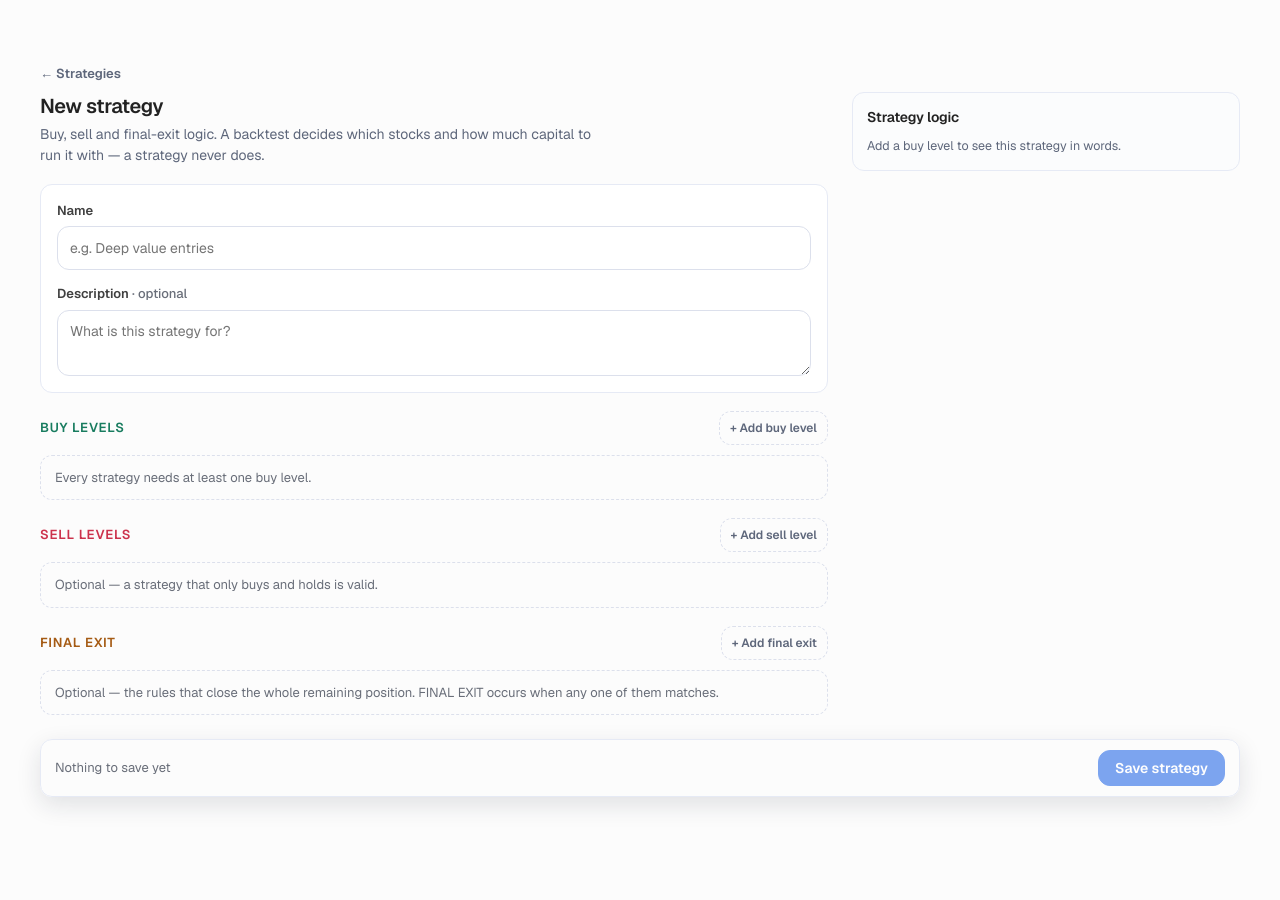
Test: an ETF condition beside stock conditions › keeps the three controls: no fourth, and the source lives in the Metric popover alone
The width and height of the screenshot is (1280, 900).
Step 1. Click the button with test id "add-level-BUY" → click(773, 428), box [719,410,828,444]
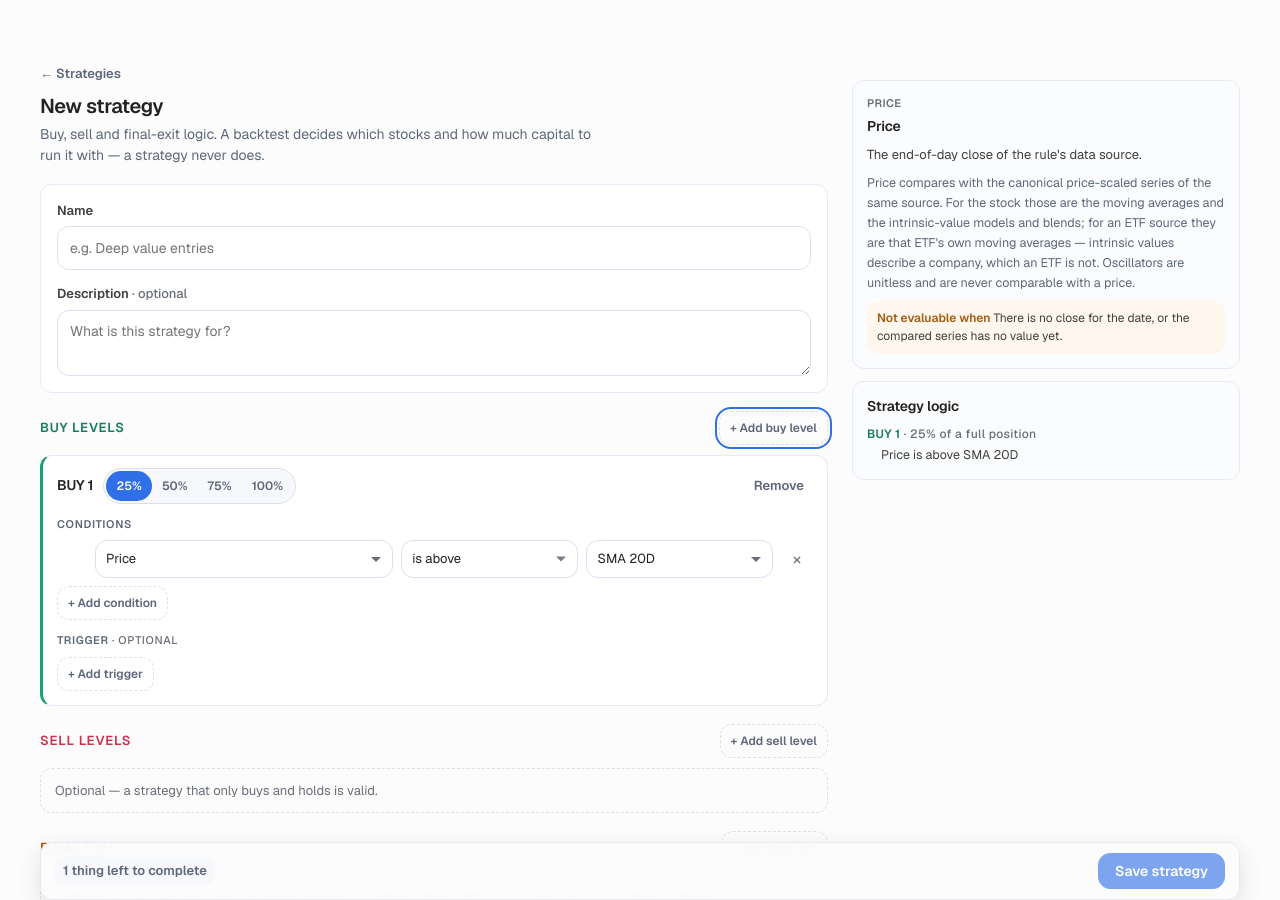
Step 2. Click the button with test id "metric-picker" → click(121, 559), box [95,540,393,578]
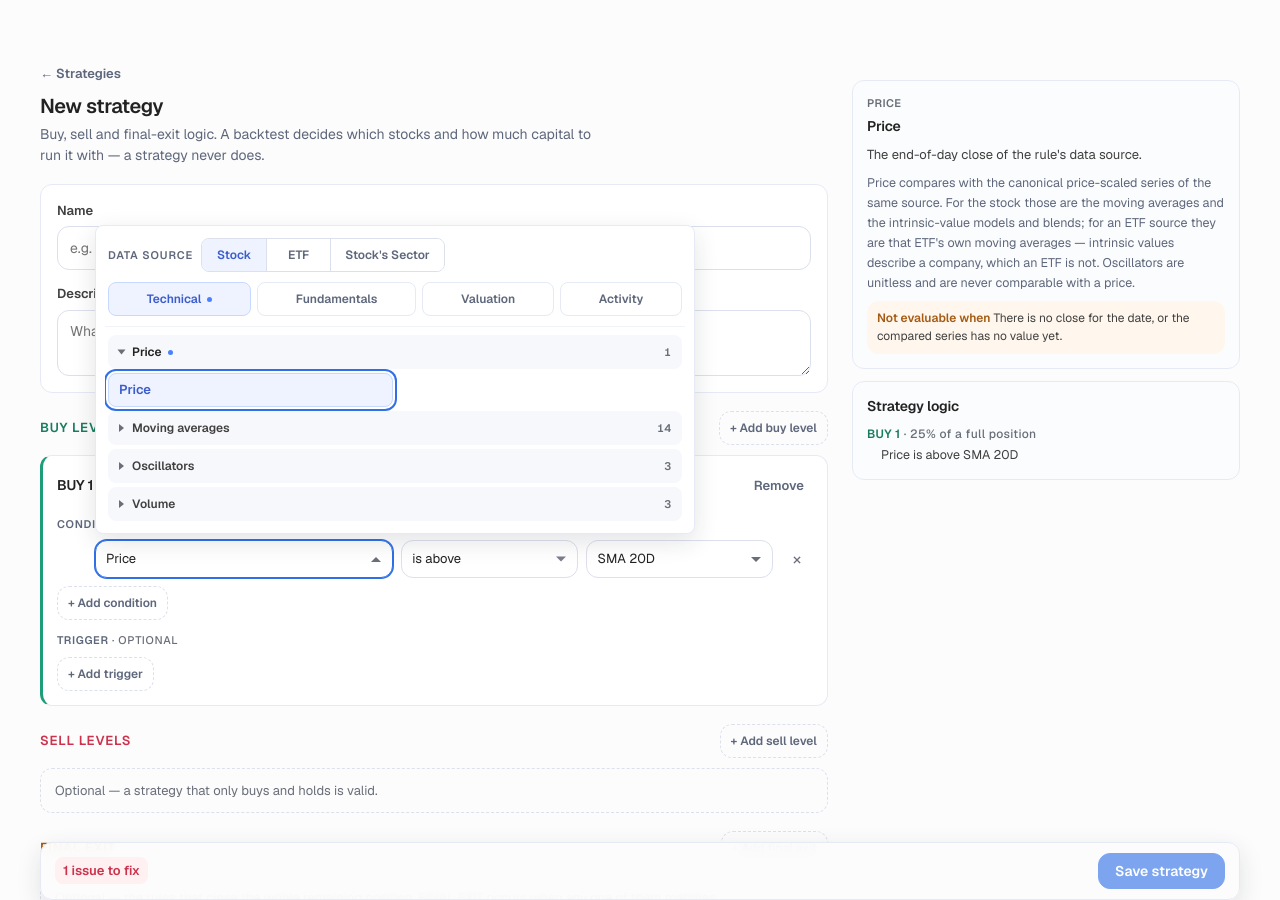
Step 3. Click the radio button labelled "ETF" → click(298, 255), box [266,239,330,271]
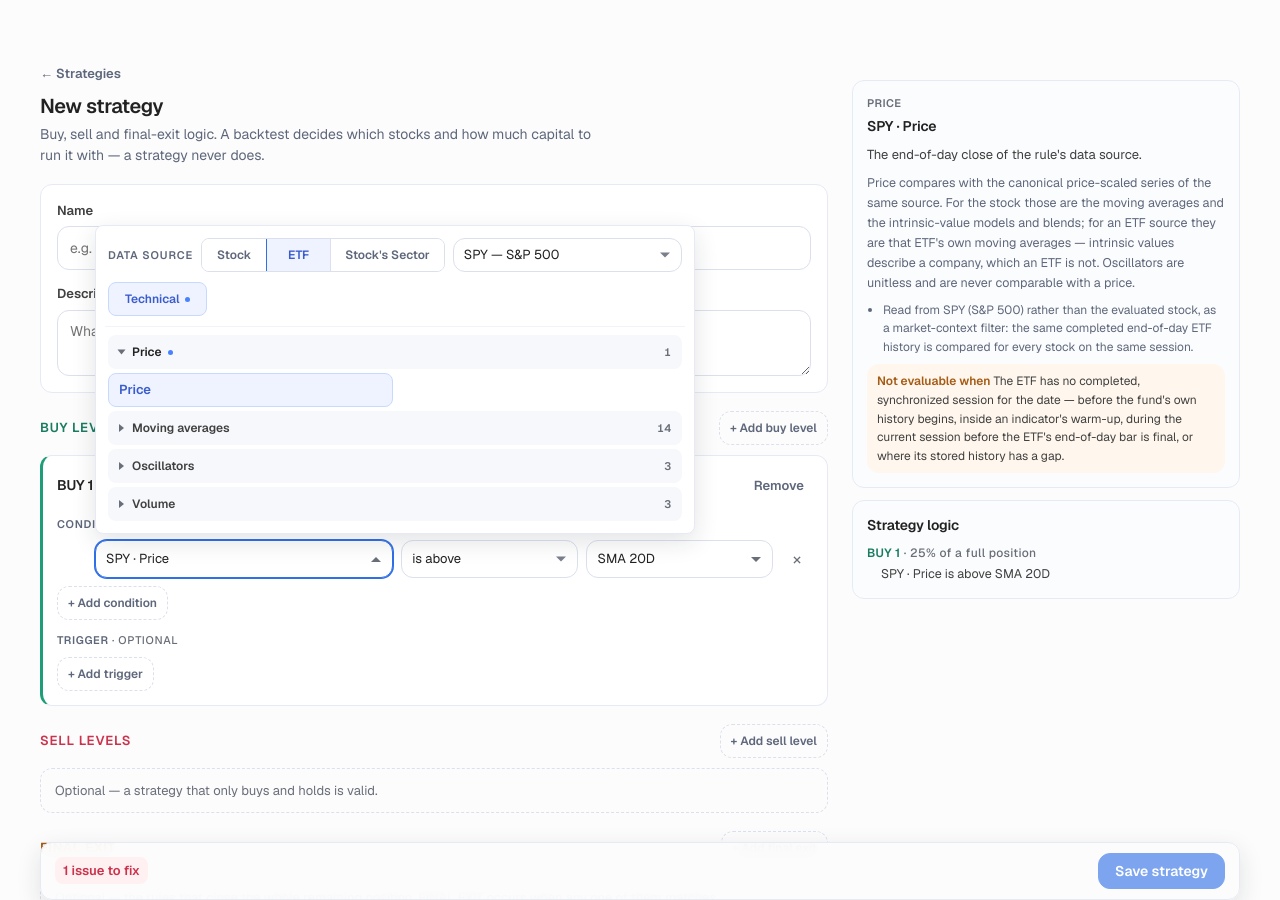
Step 4. Select "XLK — Technology" in the dropdown named "ETF" → (567, 255), box [453,238,682,272]
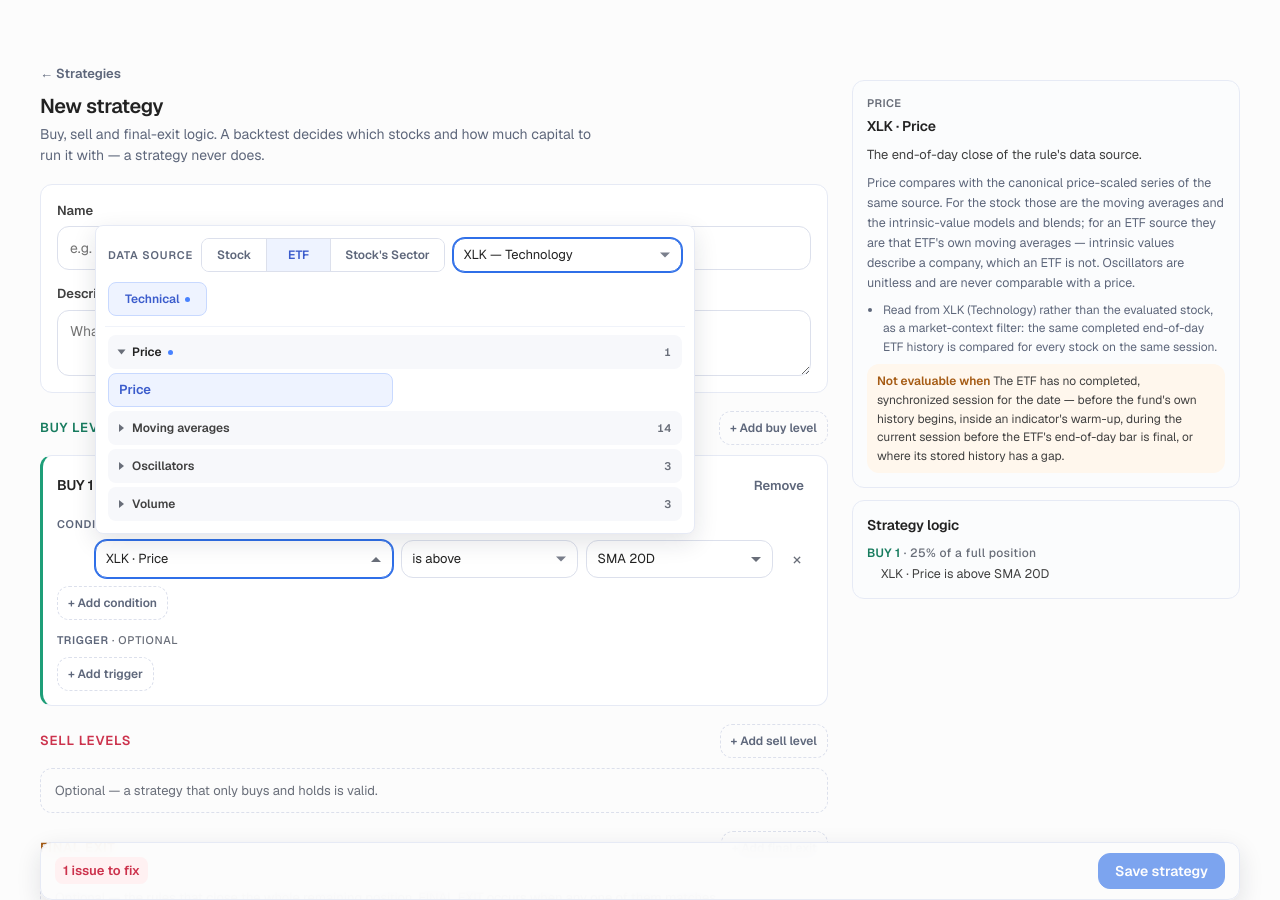
Step 5. Click the button "Oscillators 3" → click(163, 466), box [108,449,682,483]
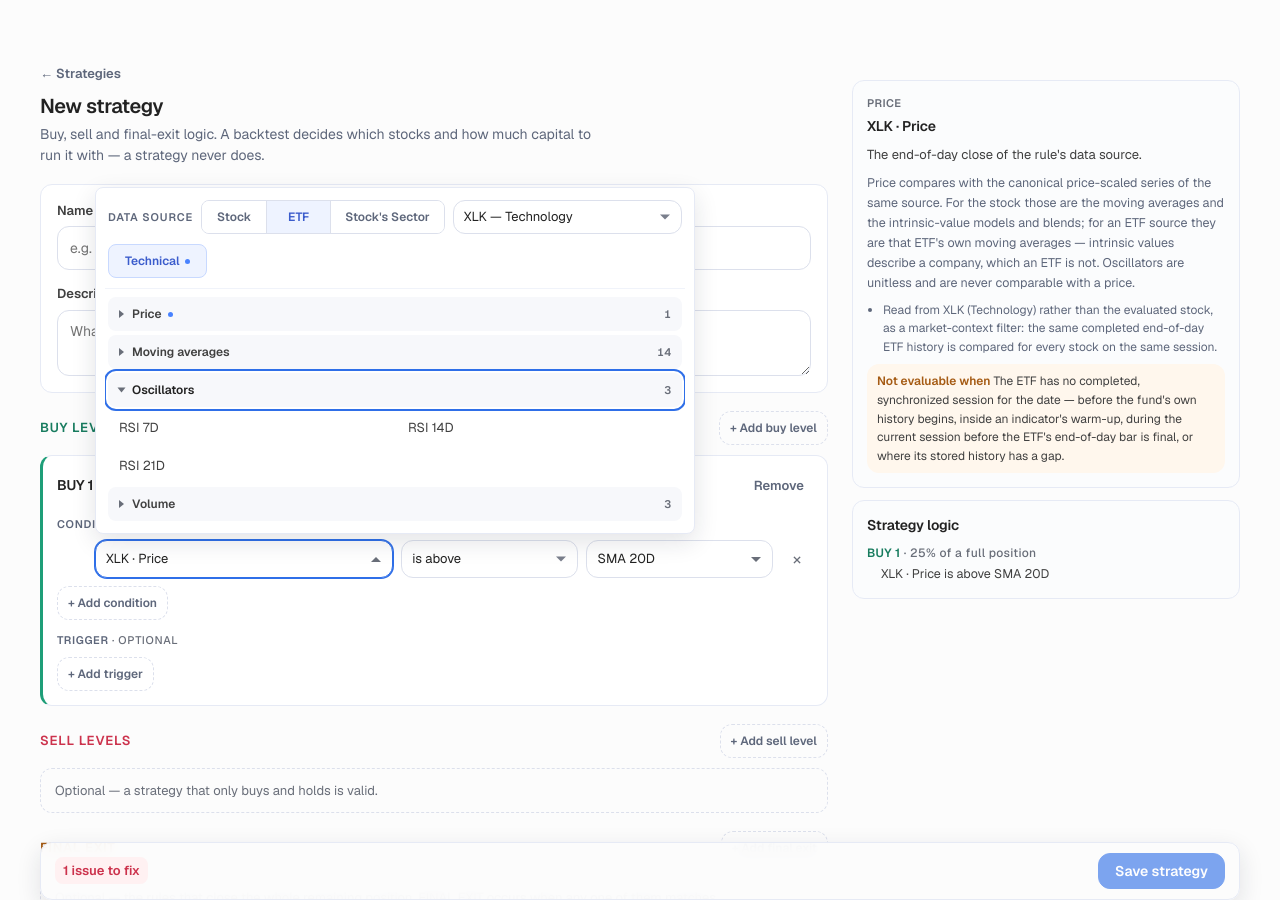
Step 6. Click the button "RSI 14D" → click(431, 427), box [397,411,682,445]
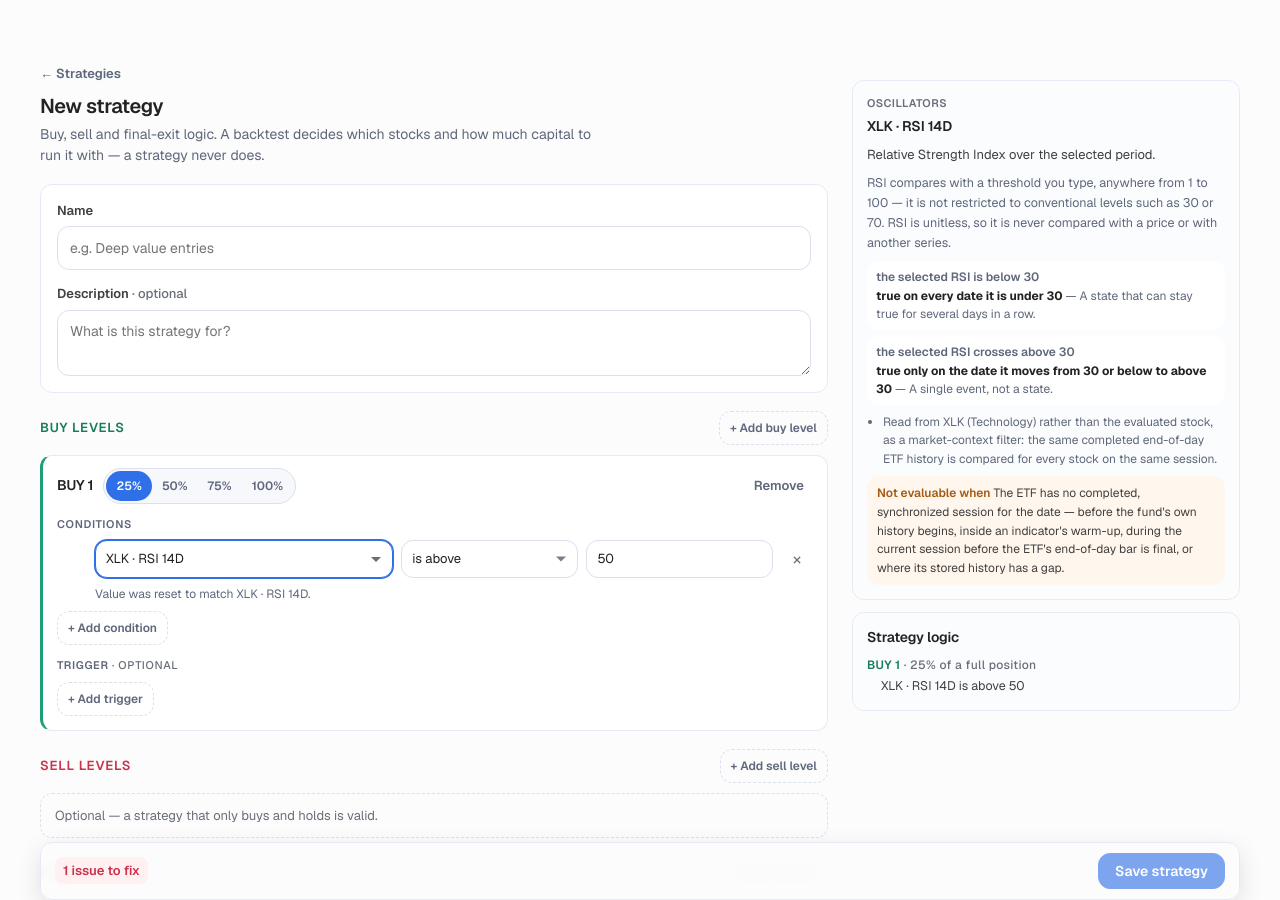
Expected: the button with test id "metric-picker" is shown, [95,540,393,578]
Expected: the dropdown with test id "operator-select" is shown, [401,540,578,578]
Expected: the number field with test id "value-control" is shown, [586,540,773,578]
